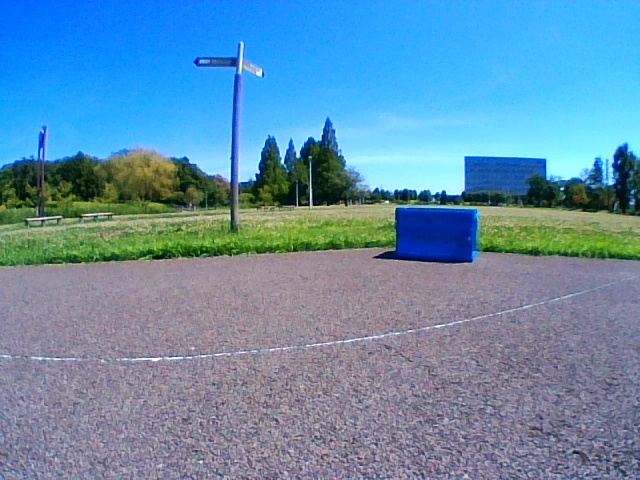blue_box: (395, 207, 478, 262)
